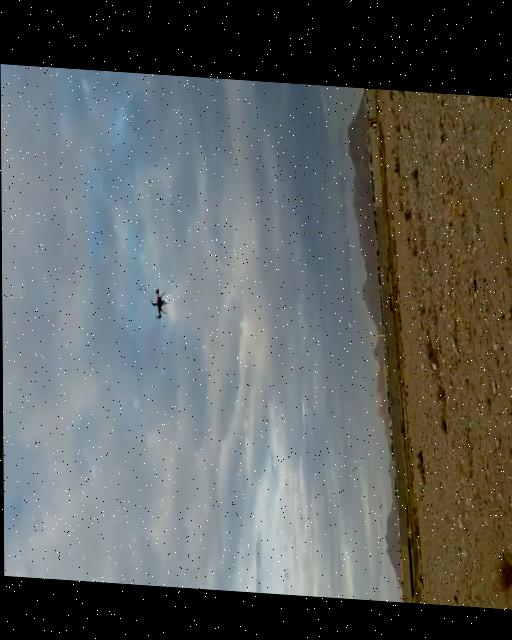drone: (146, 283, 172, 320)
